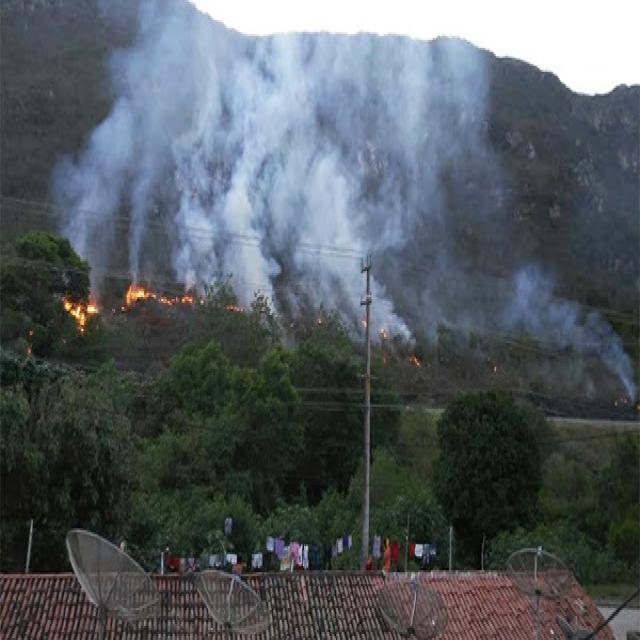Fire: (122, 281, 197, 307), (67, 293, 98, 329)
Smoke: (48, 100, 136, 284), (502, 266, 616, 372), (296, 158, 364, 317), (220, 164, 274, 318), (442, 34, 495, 160), (397, 31, 432, 178), (171, 56, 221, 156), (172, 188, 212, 288), (242, 88, 293, 166), (306, 282, 364, 342), (225, 48, 273, 119), (334, 30, 377, 104), (127, 172, 155, 280), (372, 280, 414, 350), (368, 177, 405, 254), (305, 30, 334, 101), (618, 352, 637, 406), (282, 280, 304, 318)
